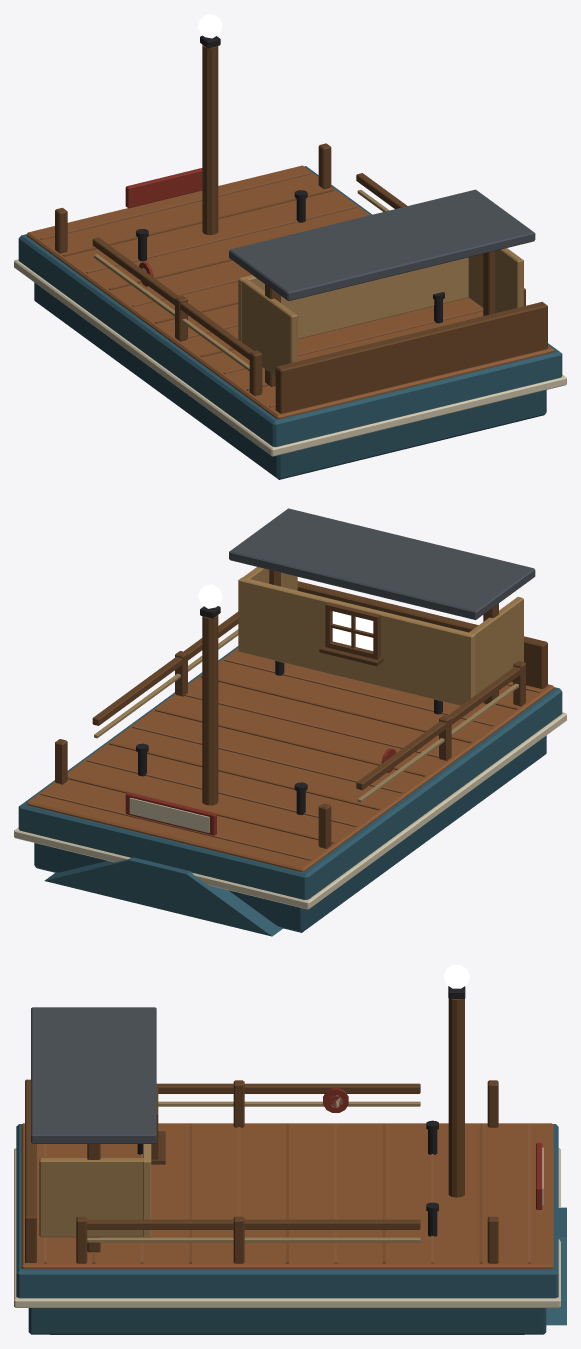
The model's file is FerryBoat.glb.
3 views of the same model, one above another, from view 1: azimuth 30°, elevation 25°; view 2: azimuth 150°, elevation 25°; view 3: azimuth 270°, elevation 25° (orthographic). The views are drawn at different scales.
Parts seen in each view (by area): view 1: Body, Deck; view 2: Body, Deck, Glow, Sign; view 3: Body, Deck, Glow.
Boxes of the visible parts, box(x1,y1,x2,y2) form: Body: box(14, 35, 566, 479); Deck: box(26, 165, 554, 419); Body: box(14, 508, 566, 936); Deck: box(26, 648, 554, 872); Glow: box(198, 584, 373, 650); Sign: box(129, 797, 209, 832); Body: box(14, 986, 566, 1334); Deck: box(21, 1123, 553, 1268); Glow: box(443, 965, 469, 988).
Size of what is drawn, in the model's own units: 14.9 by 14.32 by 22.85.
